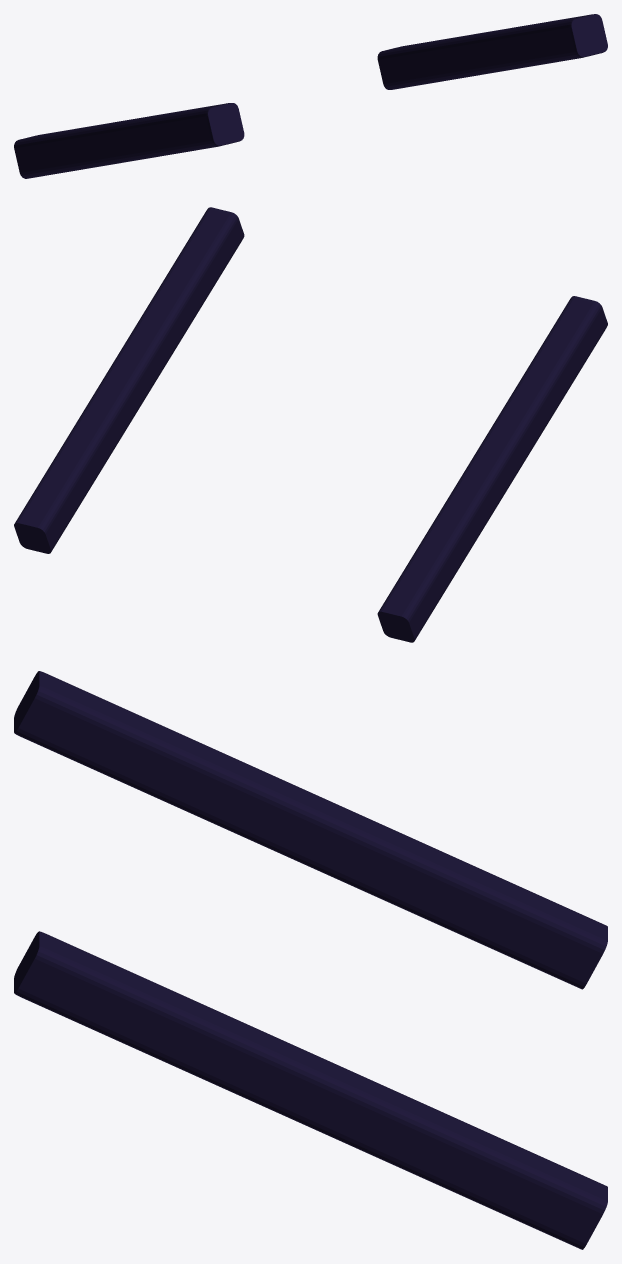
File: Plank1.fbx
3 views of the same model, one above another, from view 1: azimuth 30°, elevation 25°; view 2: azimuth 150°, elevation 25°; view 3: azimuth 270°, elevation 25° (orthographic). The views are drawn at different scales.
Parts seen in each view (by area): view 1: Cube.001; view 2: Cube.001; view 3: Cube.001.
Part boxes in pixels (box(x1,y1,x2,y2)): Cube.001: box(14, 14, 607, 178); Cube.001: box(14, 207, 607, 642); Cube.001: box(14, 671, 607, 1249).
Size of the model in its own units: 113 by 56.22 by 99.98.
